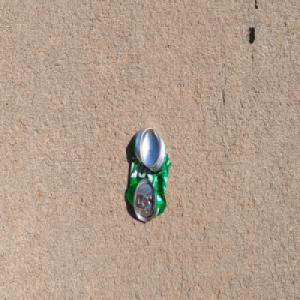SodaCan: (126, 126, 171, 223)
